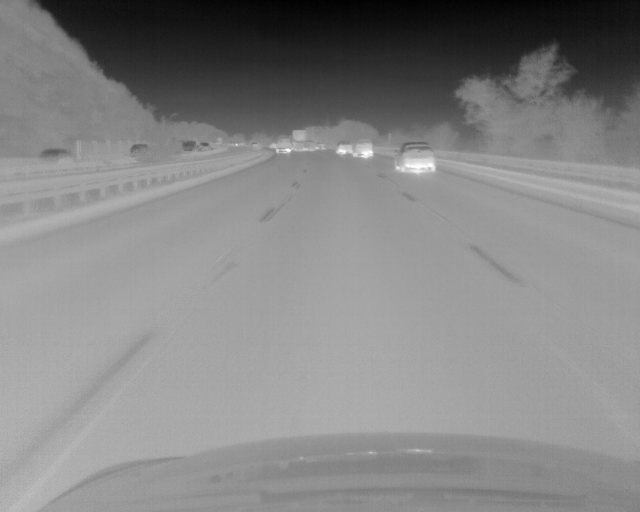car: (394, 142, 435, 173), (38, 148, 75, 164), (292, 129, 314, 152), (355, 139, 372, 157), (334, 140, 352, 155), (276, 139, 291, 154), (132, 144, 149, 155), (183, 140, 196, 150), (198, 142, 209, 151)
